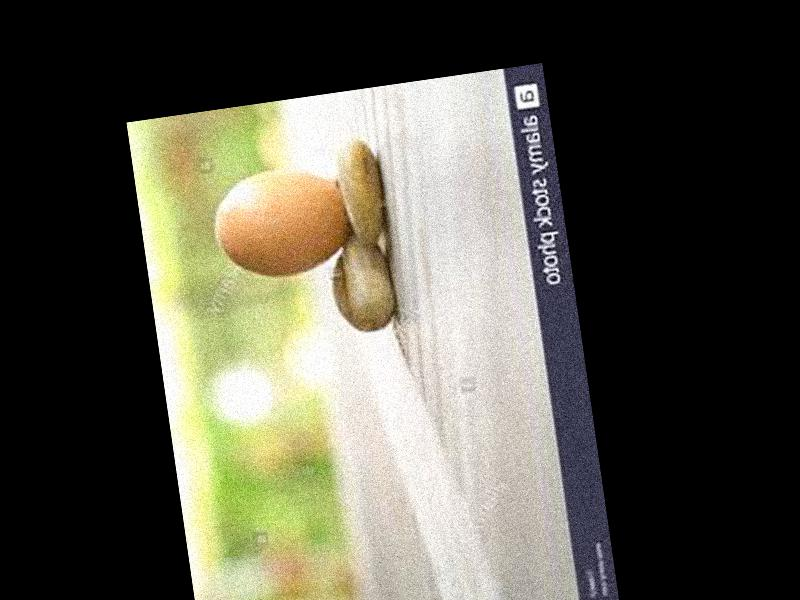Eggs: (209, 159, 355, 285)
